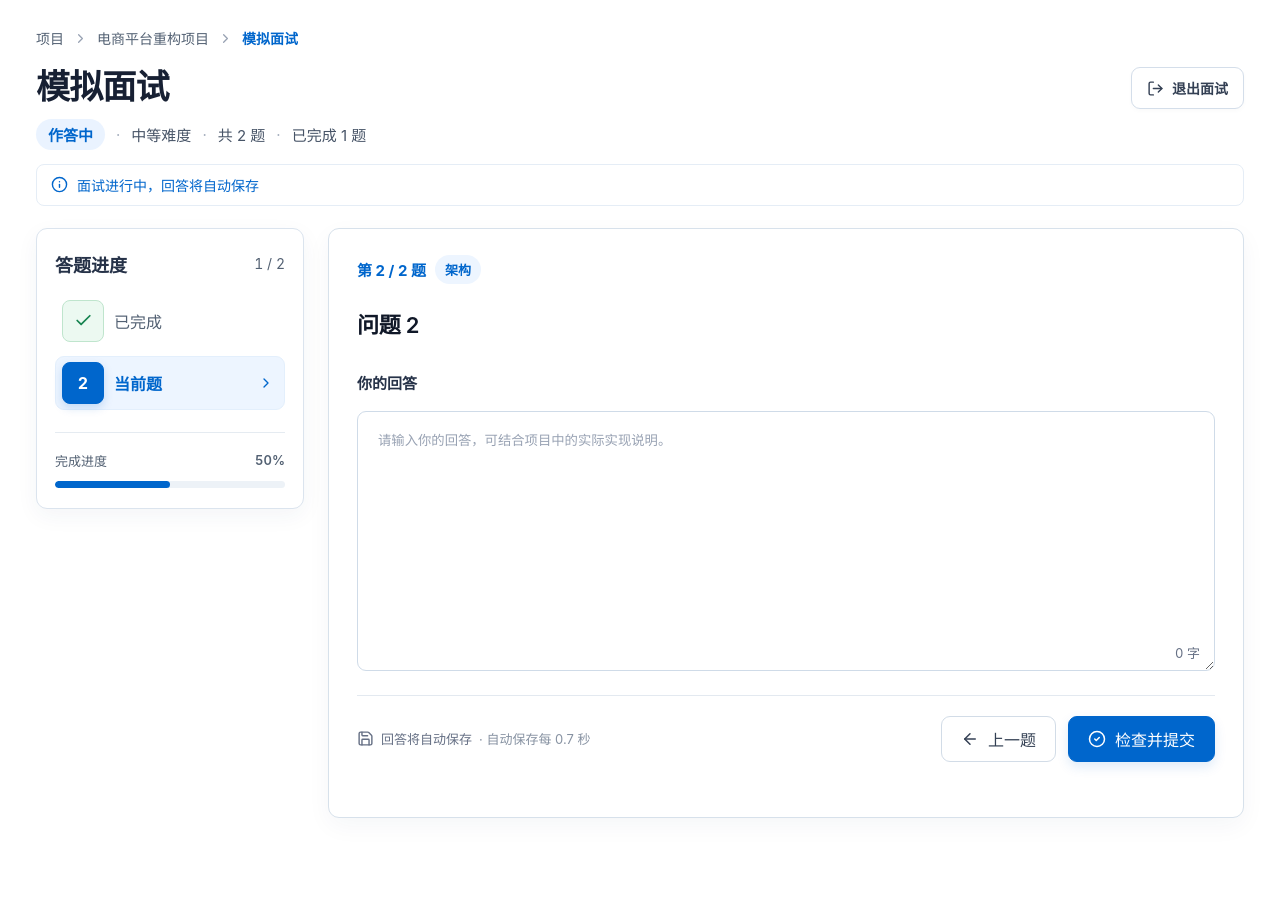
Test case: InterviewSessionClient › blocks submission when an answer is incomplete
Click the button "检查并提交" at (1142, 739), box 1068,716 -> 1215,762
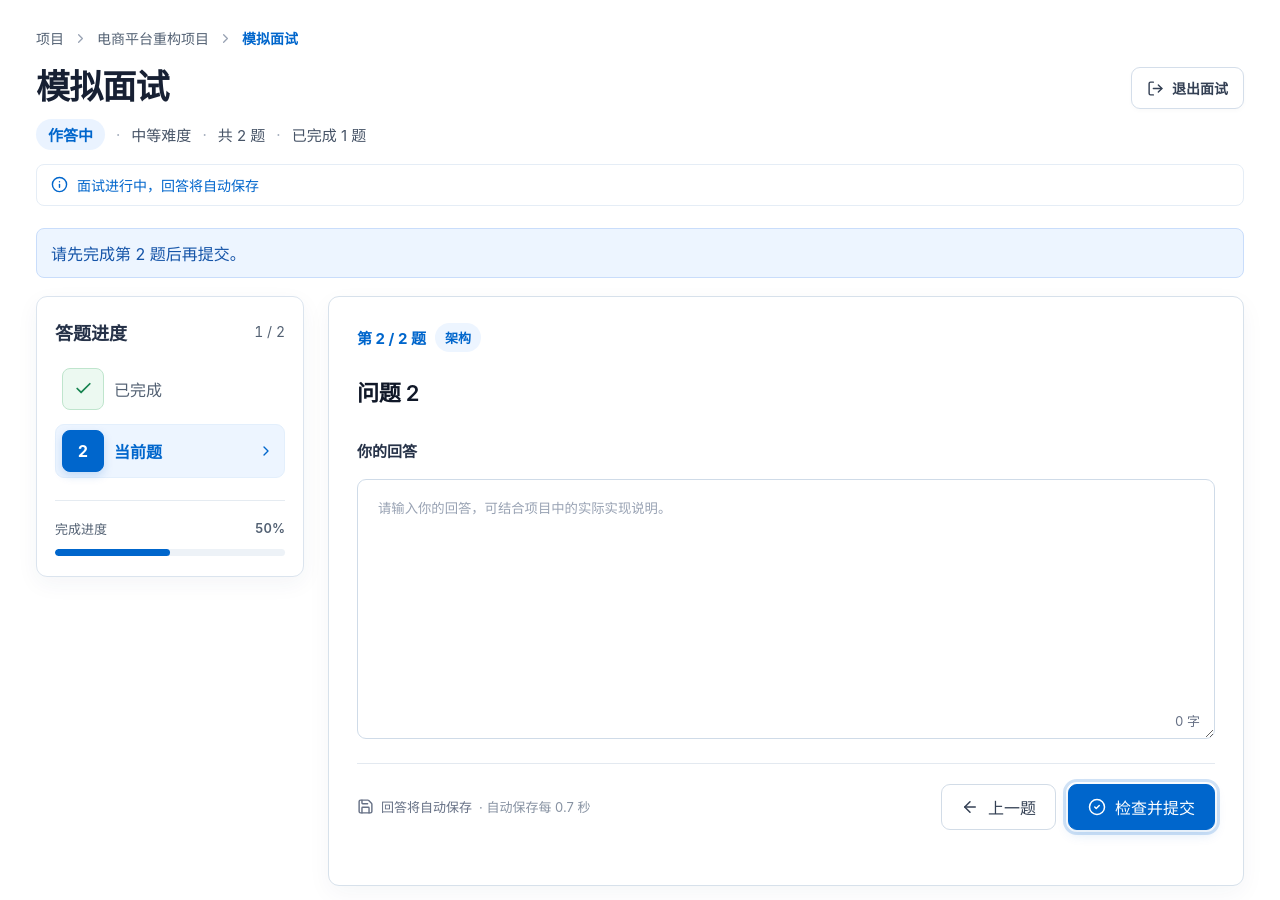
Check: the text "请先完成第 2 题后再提交。" is shown, box 36,228 -> 1244,278
